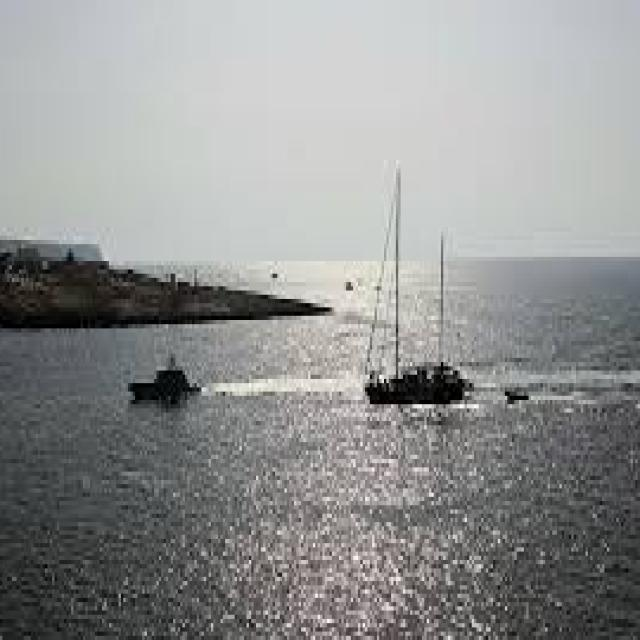fishing boat: (362, 162, 475, 406), (128, 339, 207, 414)
